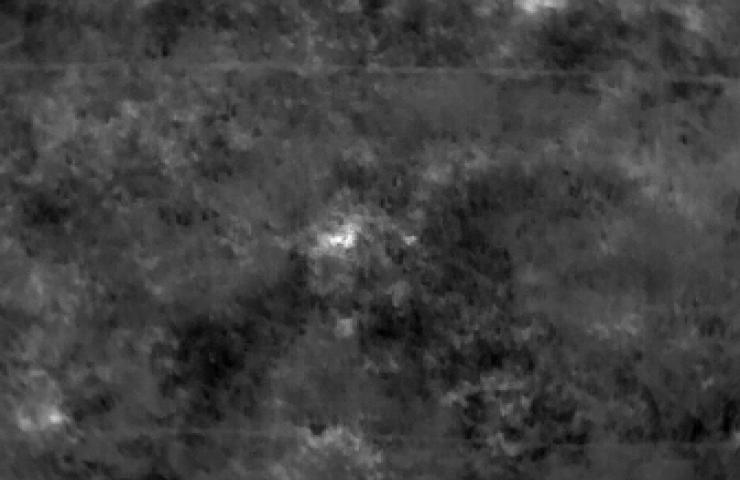landmines: (327, 227, 359, 250)
